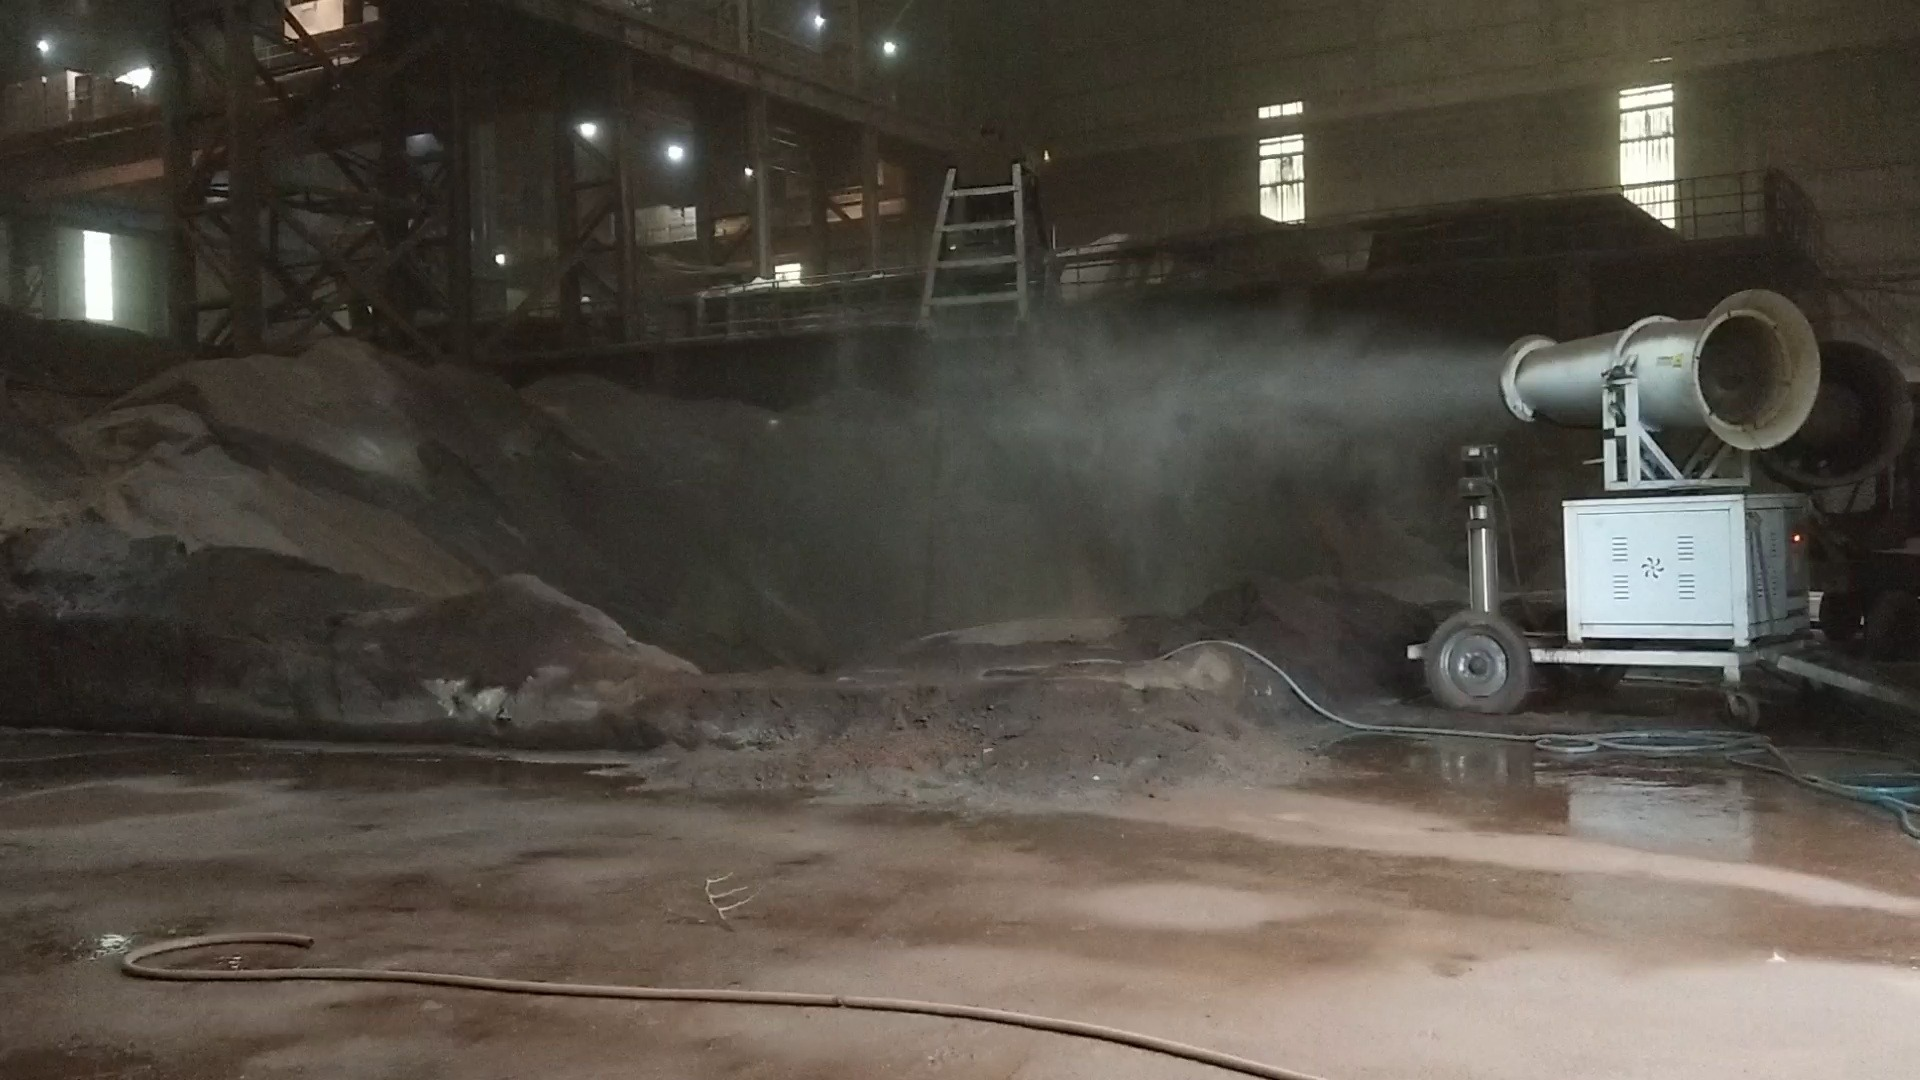dust: (930, 297, 1493, 542)
grab: (906, 142, 1048, 345)
